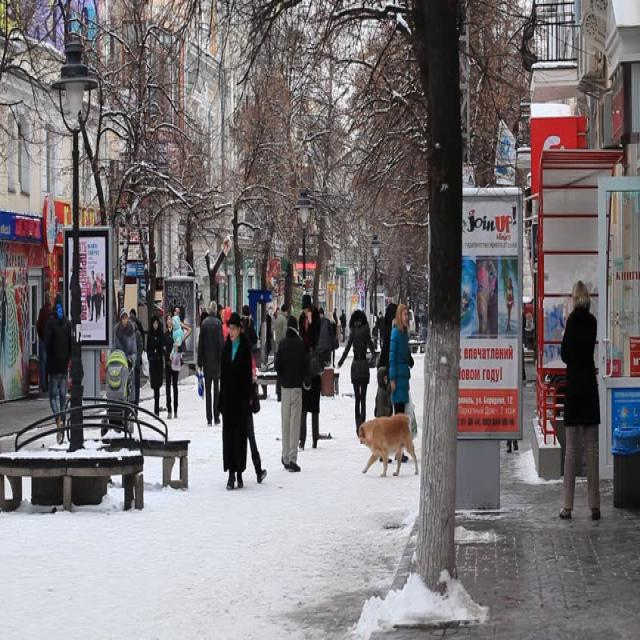body: (166, 293, 280, 404), (558, 278, 602, 522), (458, 258, 534, 386), (0, 0, 102, 69), (217, 309, 254, 492), (272, 312, 314, 473), (335, 301, 378, 439), (43, 290, 74, 446), (295, 290, 325, 450), (242, 320, 268, 484), (388, 301, 412, 464), (196, 299, 225, 428), (388, 301, 415, 415), (160, 311, 186, 420), (218, 310, 243, 422), (506, 340, 528, 455), (112, 307, 138, 404), (144, 313, 166, 419), (36, 289, 54, 395), (128, 313, 144, 415), (274, 302, 289, 402), (317, 305, 333, 375), (374, 364, 394, 417), (129, 306, 146, 366), (168, 312, 185, 361), (242, 303, 259, 349), (327, 310, 339, 370), (504, 276, 515, 332), (88, 270, 98, 326), (98, 271, 107, 317), (94, 270, 102, 318), (377, 308, 386, 349), (419, 307, 428, 345), (338, 306, 347, 342), (85, 275, 92, 317), (371, 320, 379, 351), (332, 307, 338, 344), (413, 308, 420, 333)
